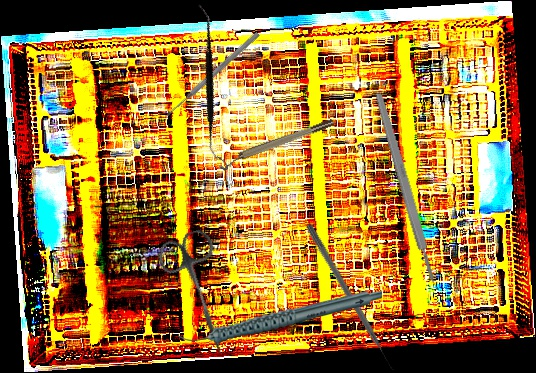Fixation Ring: (215, 116, 337, 173)
Handpiece: (178, 290, 382, 344)
Iris Scissors: (153, 226, 249, 363)
Pusher: (303, 222, 396, 373), (163, 30, 261, 120)
Scalpel Handle: (372, 90, 439, 285)
Spatula Surgical: (136, 3, 280, 162)
